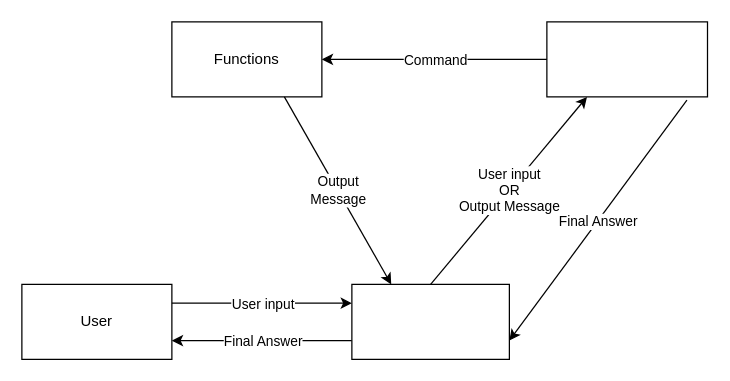
Image size: 730x381. Some labels were removed from this diagram. The shapes that lost their labels are listed below. From the top down, each one's centre as x and y in pixels, then its label:
At point (627, 59): "Agent (API)".
At point (430, 321): "Pipeline Manager".
